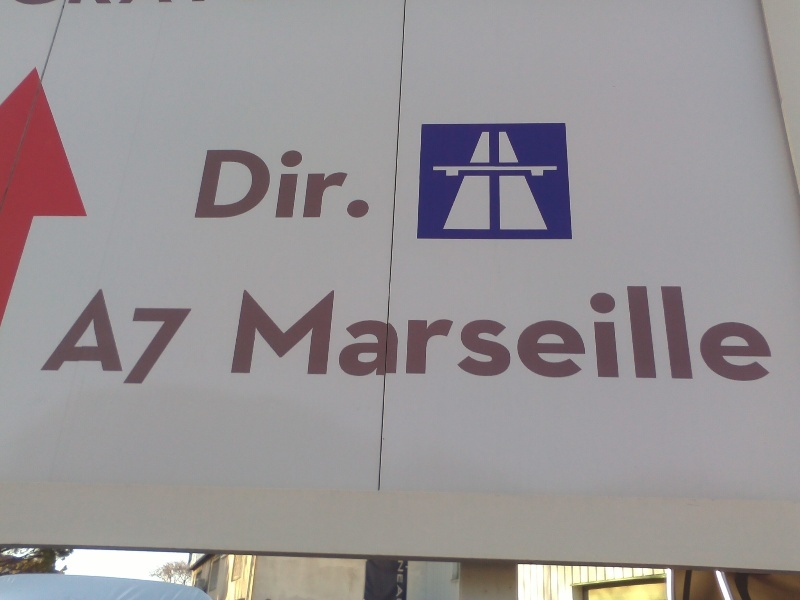text: (113, 288, 128, 388), (129, 288, 144, 388), (145, 288, 160, 388), (161, 288, 176, 388), (177, 288, 192, 388), (257, 285, 272, 382), (273, 285, 288, 382), (289, 285, 304, 382), (305, 285, 320, 382), (321, 285, 336, 382), (337, 285, 352, 382), (353, 285, 368, 382), (369, 285, 384, 382), (385, 285, 400, 382), (401, 285, 416, 382), (417, 285, 432, 382), (433, 285, 448, 382), (449, 285, 464, 382), (465, 285, 480, 382), (481, 285, 496, 382), (497, 285, 512, 382), (513, 285, 528, 382), (529, 285, 544, 382), (545, 285, 560, 382), (561, 285, 576, 382), (577, 285, 592, 382), (593, 285, 608, 382), (609, 285, 624, 382), (625, 285, 640, 382), (641, 285, 656, 382), (657, 285, 672, 382), (673, 285, 688, 382), (689, 285, 704, 382), (705, 285, 720, 382), (721, 285, 736, 382), (737, 285, 752, 382), (753, 285, 768, 382), (99, 288, 112, 388), (243, 285, 256, 382), (209, 148, 224, 218), (225, 148, 240, 218), (241, 148, 256, 218), (257, 148, 272, 218), (273, 148, 288, 218), (289, 148, 304, 218), (305, 148, 320, 218), (321, 148, 336, 218), (337, 148, 352, 218), (353, 148, 368, 218), (369, 148, 379, 218), (769, 285, 774, 382), (193, 288, 195, 388), (401, 561, 405, 597), (398, 561, 400, 597), (207, 148, 208, 218)
